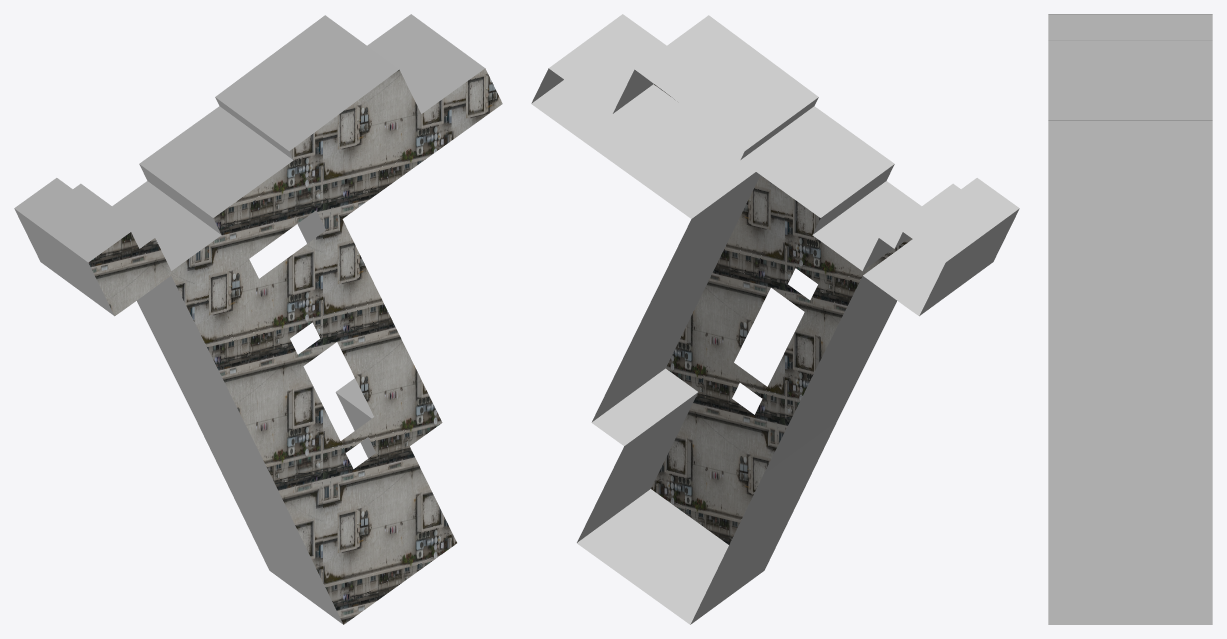
The model's file is geospecific_325.obj.
The picture shows the model from 3 angles, left to right: view 1: azimuth 30°, elevation 25°; view 2: azimuth 150°, elevation 25°; view 3: azimuth 270°, elevation 25°; orthographic projection. The views are drawn at different scales.
Visible parts, largest first — view 1: Building; view 2: Building; view 3: Building.
Boxes of the visible parts, x1,y1,x2,y2 form: Building: [14, 14, 502, 624]; Building: [531, 14, 1019, 624]; Building: [1048, 14, 1212, 624].
Size of the model in its own units: 58.06 by 72.53 by 18.
